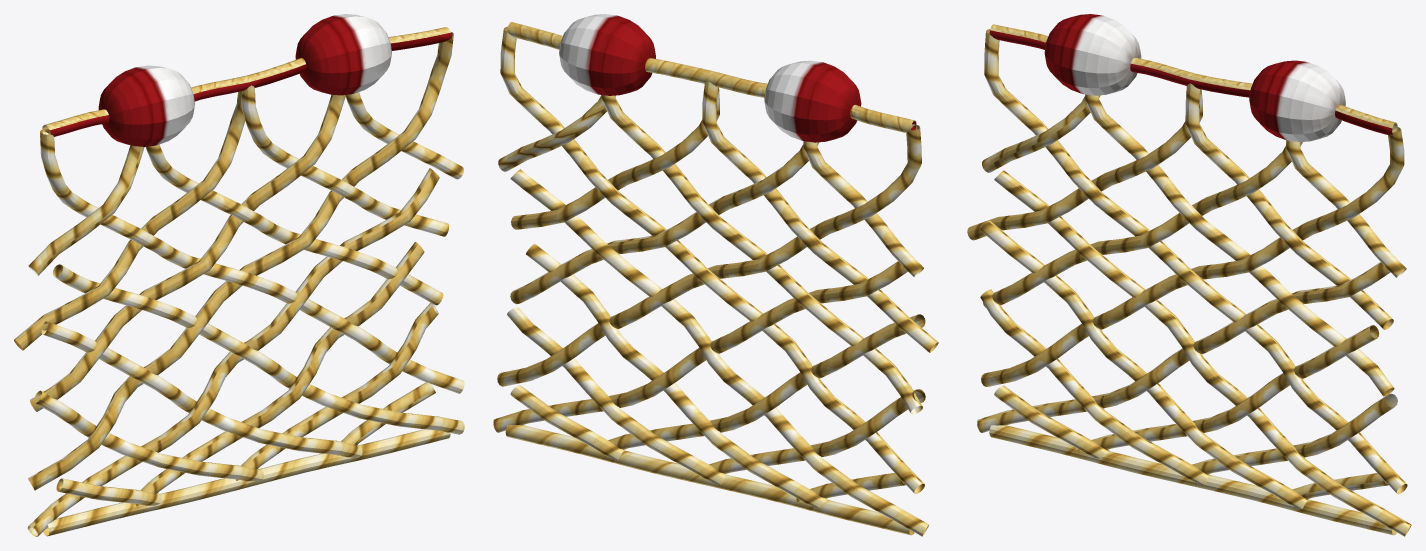
File: Tutorial_Buoy_Middle.fbx
3 views of the same model, side by side, from view 1: azimuth 30°, elevation 25°; view 2: azimuth 150°, elevation 25°; view 3: azimuth 330°, elevation 25° (orthographic).
Parts seen in each view (by area): view 1: Tutorial_Buoy_Middle; view 2: Tutorial_Buoy_Middle; view 3: Tutorial_Buoy_Middle.
Part boxes in pixels (box(x1,y1,x2,y2)): Tutorial_Buoy_Middle: box(14, 14, 464, 536); Tutorial_Buoy_Middle: box(493, 14, 938, 536); Tutorial_Buoy_Middle: box(967, 14, 1411, 536).
Bounding box in the file's own units: 22.13 × 21.07 × 3.8.
1 material, 1 textured.
